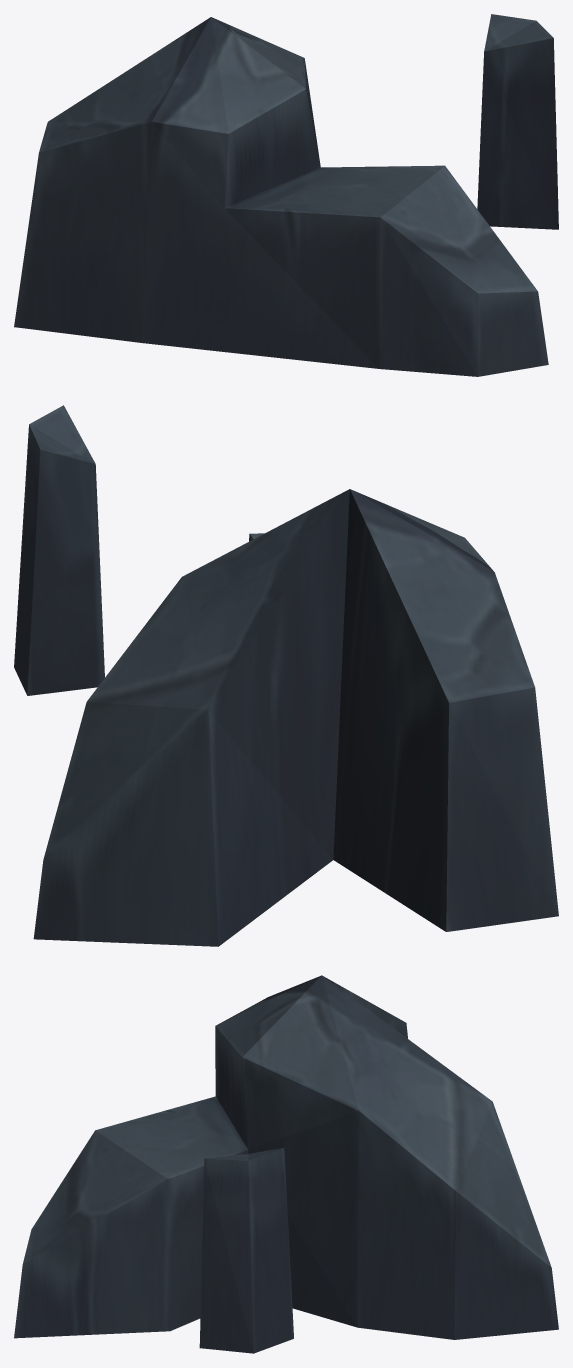
File: Area_12_11.fbx
3 renders of one model, top to bottom at view 1: azimuth 30°, elevation 25°; view 2: azimuth 150°, elevation 25°; view 3: azimuth 270°, elevation 25°, orthographic. The views are drawn at different scales.
Parts seen in each view (by area): view 1: Area_12_11; view 2: Area_12_11; view 3: Area_12_11.
Boxes of the visible parts, <box> form: Area_12_11: <box>14,14,558,376</box>; Area_12_11: <box>14,405,558,946</box>; Area_12_11: <box>14,975,558,1353</box>.
Size of the model in its own units: 656 by 389 by 656.
